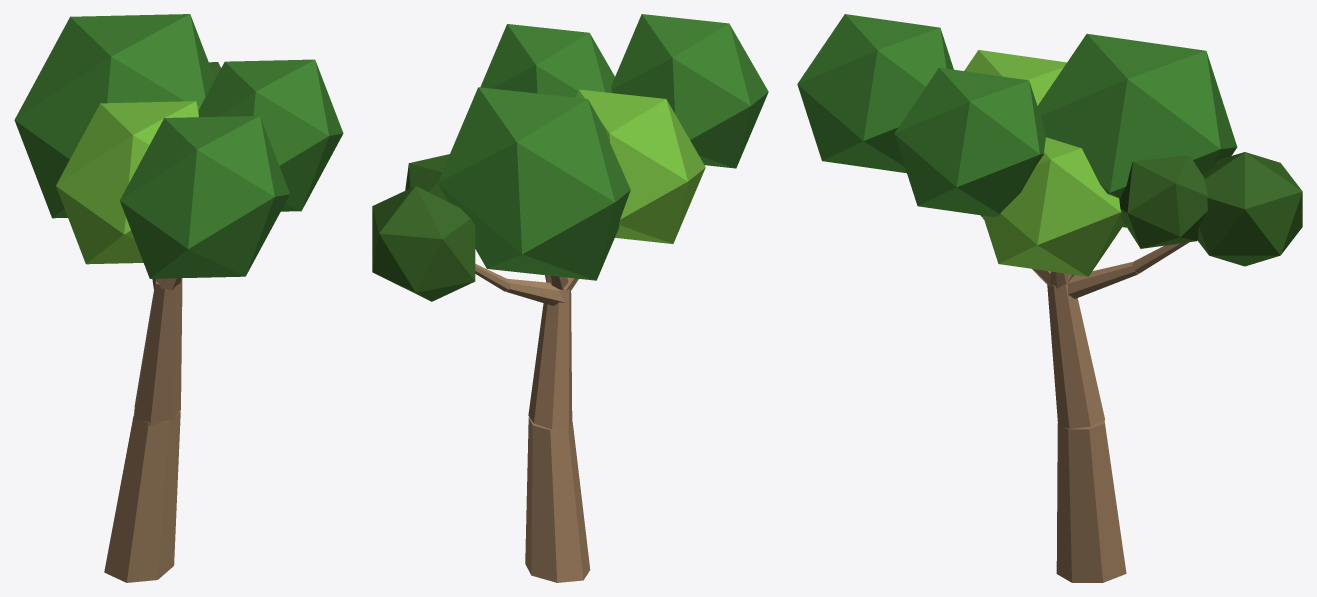
The model's file is forest-deciduous-crooked.glb.
3 renders of one model, left to right at view 1: azimuth 30°, elevation 25°; view 2: azimuth 150°, elevation 25°; view 3: azimuth 270°, elevation 25°, orthographic. The views are drawn at different scales.
Visible parts, largest first — view 1: Icosphere.004, Icosphere.006, Icosphere.003, Icosphere.005, Trunk0, Trunk1; view 2: Icosphere.006, Icosphere.004, Icosphere.003, Icosphere, Trunk0, Icosphere.005, Trunk1, Icosphere.001, Branch0a; view 3: Icosphere.006, Icosphere.005, Icosphere.004, Icosphere.002, Icosphere, Trunk0, Icosphere.001, Trunk1, Icosphere.003, Branch0a.
Boxes of the visible parts, left/top/right/bottom form: Icosphere.004: left=120, top=115, right=289, bottom=278; Icosphere.006: left=14, top=14, right=214, bottom=218; Icosphere.003: left=56, top=101, right=198, bottom=264; Icosphere.005: left=198, top=59, right=343, bottom=211; Trunk0: left=104, top=411, right=180, bottom=582; Trunk1: left=134, top=278, right=182, bottom=425; Icosphere.006: left=437, top=87, right=630, bottom=280; Icosphere.004: left=611, top=14, right=768, bottom=168; Icosphere.003: left=575, top=89, right=705, bottom=243; Icosphere: left=372, top=186, right=475, bottom=301; Trunk0: left=525, top=417, right=590, bottom=582; Icosphere.005: left=480, top=24, right=614, bottom=97; Trunk1: left=528, top=289, right=572, bottom=429; Icosphere.001: left=405, top=154, right=449, bottom=201; Branch0a: left=505, top=278, right=565, bottom=305; Icosphere.006: left=1037, top=33, right=1237, bottom=227; Icosphere.005: left=894, top=67, right=1045, bottom=217; Icosphere.004: left=797, top=14, right=953, bottom=173; Icosphere.002: left=983, top=137, right=1124, bottom=276; Icosphere: left=1197, top=152, right=1302, bottom=266; Trunk0: left=1056, top=420, right=1126, bottom=582; Icosphere.001: left=1119, top=155, right=1208, bottom=248; Trunk1: left=1047, top=284, right=1104, bottom=428; Icosphere.003: left=964, top=50, right=1066, bottom=105; Branch0a: left=1067, top=261, right=1137, bottom=298.
Bounding box in the file's own units: 1.66 × 3.32 × 2.86.
